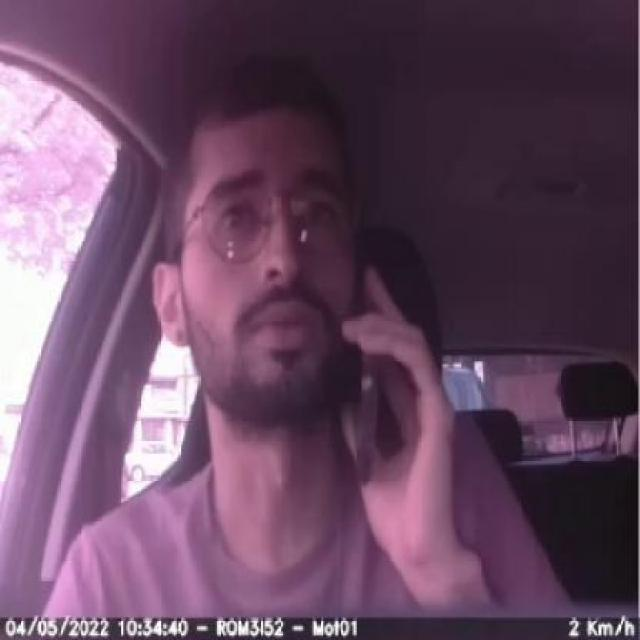using_phone: (312, 226, 438, 532)
